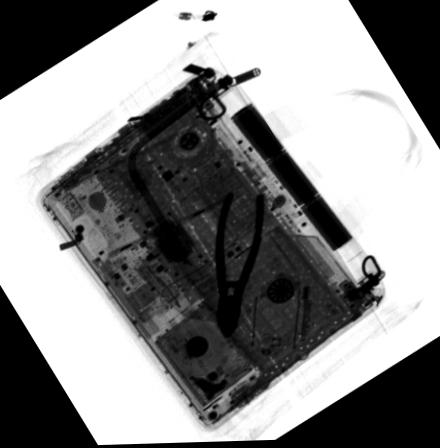Pliers: (212, 192, 266, 342)
